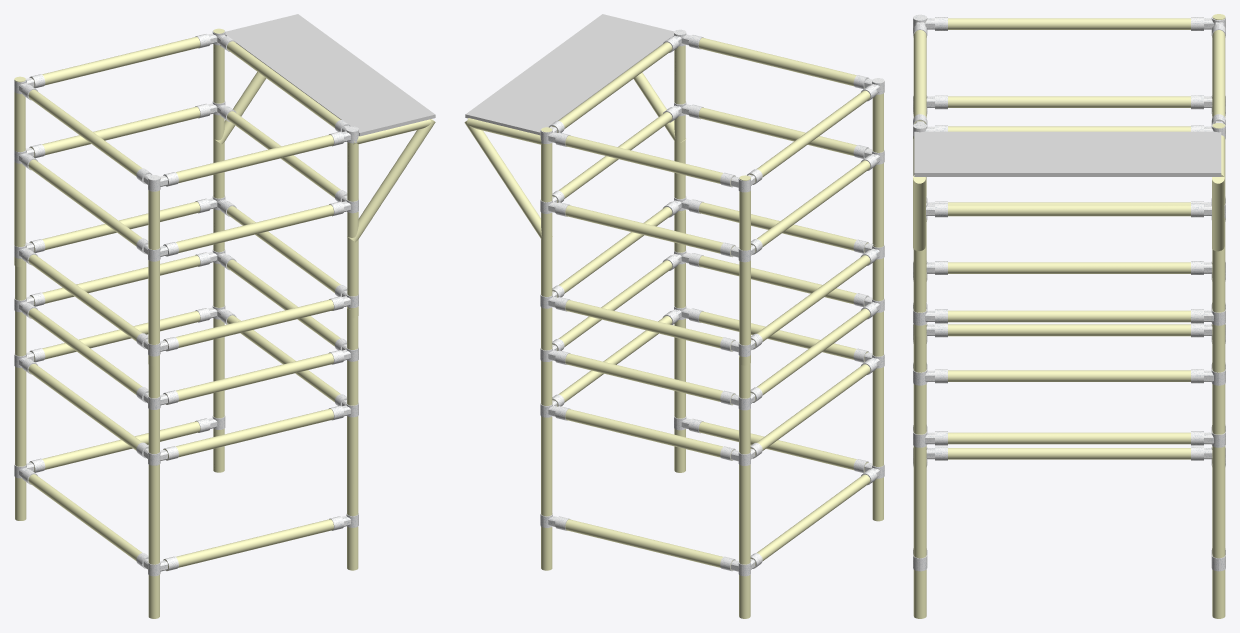
Rendered from assemblystation.dae.
3 renders of one model, left to right at view 1: azimuth 30°, elevation 25°; view 2: azimuth 150°, elevation 25°; view 3: azimuth 270°, elevation 25°, orthographic. The views are drawn at different scales.
Visible parts, largest first — view 1: Cube, group_93, group_50, group_95, group_51, group_86, group_71.002, group_26.002, group_62, group_71, group_69, group_69.002 (+23 smaller); view 2: Cube, group_51, group_50, group_95, group_93, group_43, group_19, group_26, group_28.002, group_28, group_26.002, group_69.002 (+23 smaller); view 3: Cube, group_51, group_93, group_100.002, group_100.001, group_101.001, group_100.003, group_98, group_99, group_101, group_101.002, group_98.001 (+8 smaller).
Boxes of the visible parts, box(x1,y1,x2,y2) form: Cube: box(225, 14, 435, 136); group_93: box(347, 307, 358, 570); group_50: box(15, 260, 26, 520); group_95: box(148, 356, 159, 618); group_51: box(213, 210, 224, 472); group_86: box(164, 519, 333, 570); group_71.002: box(164, 408, 333, 459); group_26.002: box(31, 36, 200, 87); group_62: box(166, 353, 333, 404); group_71: box(164, 299, 333, 347); group_69: box(176, 204, 333, 253); group_69.002: box(176, 134, 333, 183); Cube: box(465, 14, 673, 135); group_51: box(541, 308, 552, 570); group_50: box(739, 356, 750, 618); group_95: box(872, 260, 883, 521); group_93: box(674, 210, 685, 472); group_43: box(565, 519, 734, 570); group_19: box(565, 353, 734, 404); group_26: box(565, 205, 734, 256); group_28.002: box(565, 409, 734, 460); group_28: box(565, 300, 734, 351); group_26.002: box(565, 135, 731, 186); group_69.002: box(698, 37, 864, 87); Cube: box(914, 131, 1221, 176); group_51: box(1212, 325, 1225, 618); group_93: box(913, 325, 926, 618); group_100.002: box(948, 324, 1190, 336); group_100.001: box(948, 310, 1190, 322); group_101.001: box(948, 204, 1190, 216); group_100.003: box(948, 432, 1190, 444); group_98: box(948, 262, 1190, 273); group_99: box(948, 448, 1190, 459); group_101: box(948, 96, 1190, 107); group_101.002: box(948, 18, 1190, 29); group_98.001: box(948, 370, 1190, 381).
Size of the model in its own units: 0.8638 by 0.733 by 1.27.
